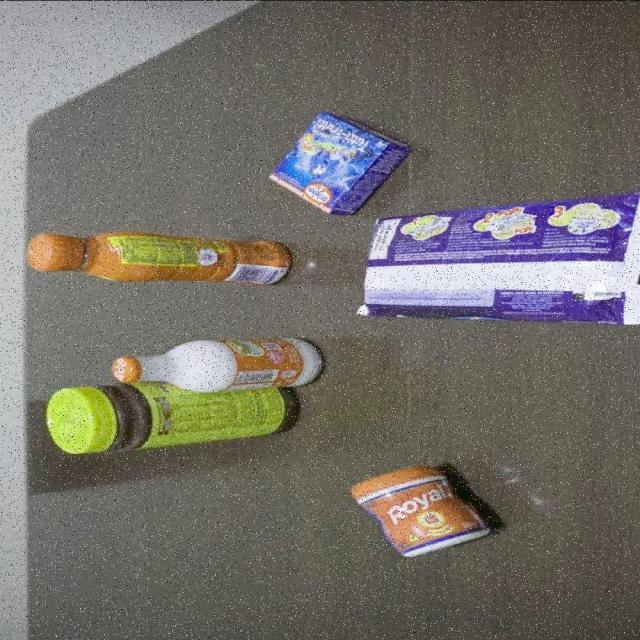ChocolateMilk: (23, 230, 295, 286)
ChocolatePowder: (44, 379, 302, 457)
CoconutMilk: (108, 334, 325, 393)
Gelatine: (268, 108, 416, 216)
Popcorn: (354, 190, 640, 326)
Yeast: (349, 462, 493, 558)
